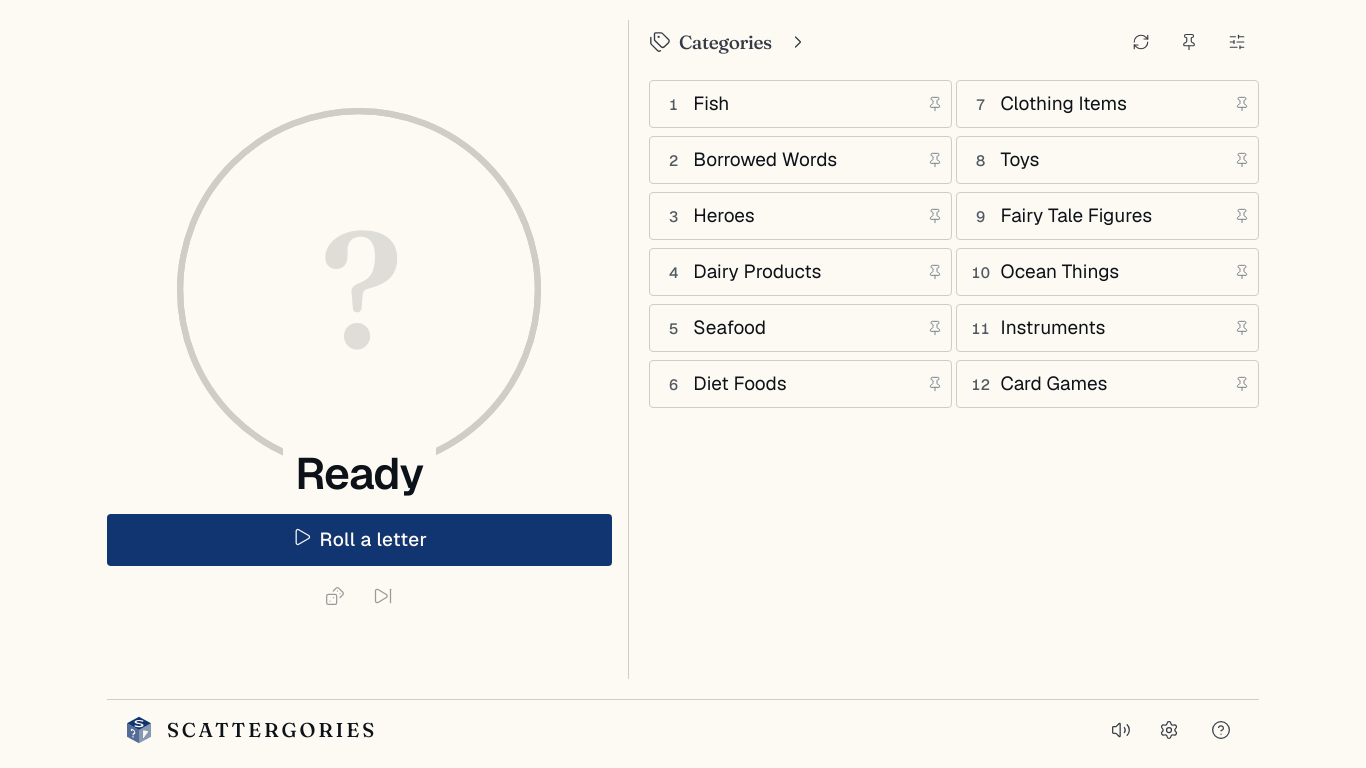
Test case: groups the gameplay settings with their defaults and hints
Expected: the heading "Scattergories" is shown, x1=167 y1=720 x2=377 y2=740
Click the button named "Settings" at (1169, 730), box x1=1147 y1=708 x2=1191 y2=752
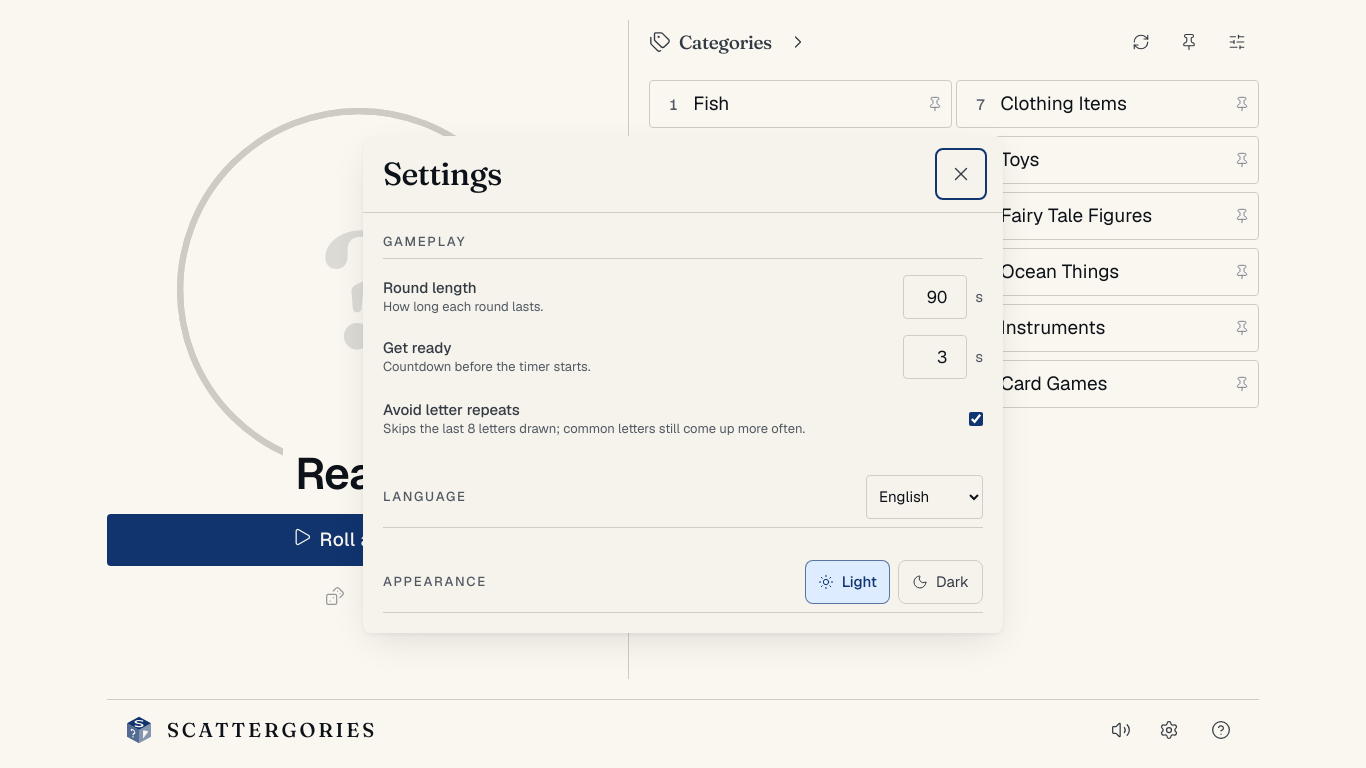
Result: the number field labelled "Round length" holds "90" at x1=903 y1=274 x2=967 y2=318
Result: the number field labelled "Get ready" holds "3" at x1=903 y1=334 x2=967 y2=378
Result: the checkbox labelled "Avoid letter repeats" is checked at x1=969 y1=394 x2=983 y2=442
